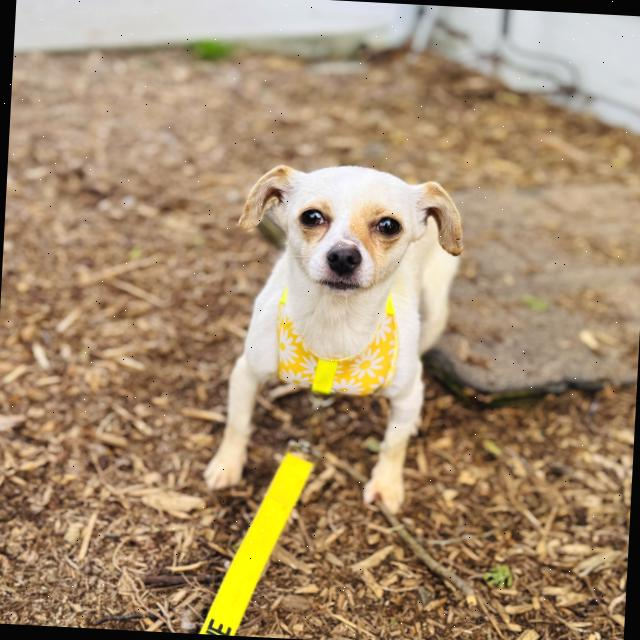chihuahua_dog: (222, 154, 478, 316)
